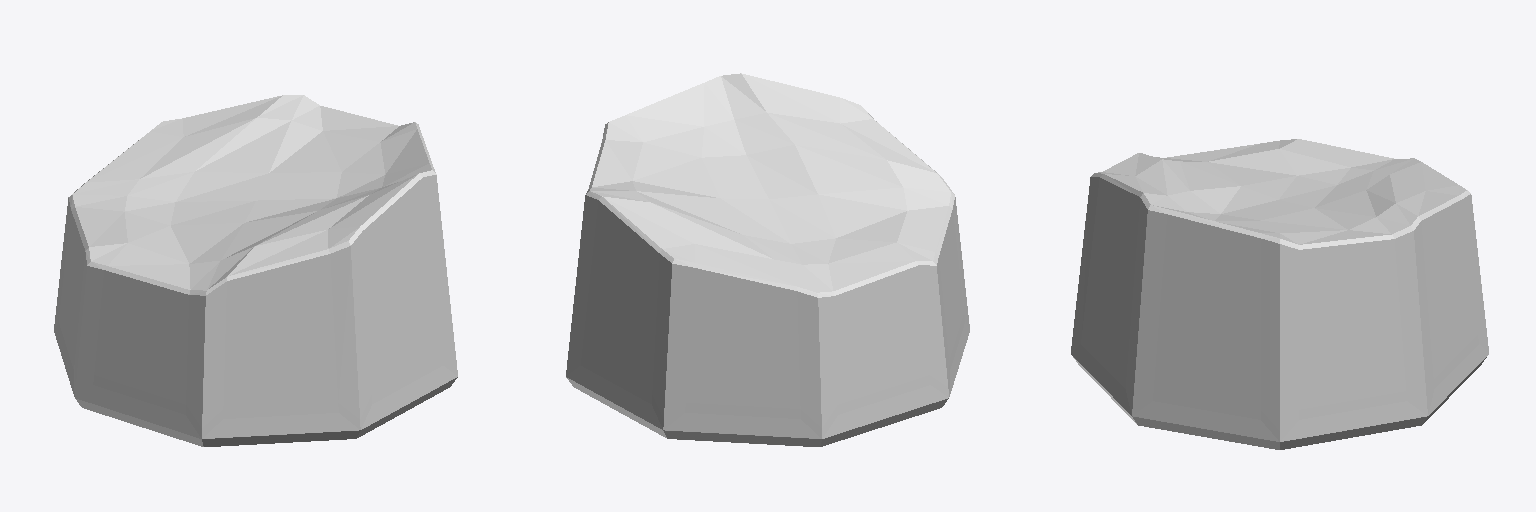
Rendered from Salt_Shaker_1_2.obj.
3 renders of one model, left to right at view 1: azimuth 30°, elevation 25°; view 2: azimuth 150°, elevation 25°; view 3: azimuth 270°, elevation 25°, orthographic.
Bounding box in the file's own units: 0.0464 × 0.0267 × 0.0464.